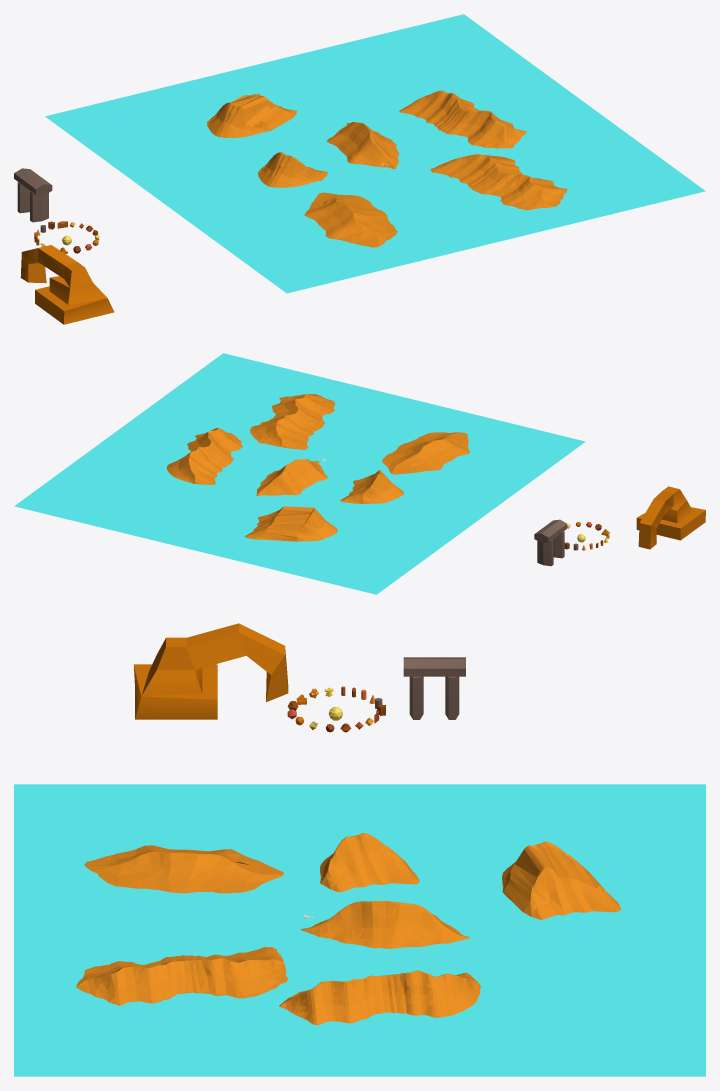
The model's file is ground environment.fbx.
The picture shows the model from 3 angles, top to bottom: view 1: azimuth 30°, elevation 25°; view 2: azimuth 150°, elevation 25°; view 3: azimuth 270°, elevation 25°; orthographic projection. The views are drawn at different scales.
Visible parts, largest first — view 1: Plane, Pyramid.001__0.001, _gltfNode_2.001, _gltfNode_2, _gltfNode_1.001, _gltfNode_0.001, _gltfNode_1, _gltfNode_0, Cylinder.005__0.003, Cylinder.005__0.002; view 2: Plane, _gltfNode_2.001, Pyramid.001__0.001, _gltfNode_2, _gltfNode_1.001, _gltfNode_0.001, _gltfNode_1, _gltfNode_0, Cylinder.005__0.003, Cylinder.005__0.001; view 3: Plane, Pyramid.001__0.001, _gltfNode_2.001, _gltfNode_2, _gltfNode_1.001, _gltfNode_0.001, _gltfNode_1, _gltfNode_0, Cylinder.005__0.003.
Boxes of the visible parts, left/top/right/bottom form: Plane: left=45, top=14, right=705, bottom=293; Pyramid.001__0.001: left=20, top=245, right=114, bottom=324; _gltfNode_2.001: left=430, top=154, right=567, bottom=210; _gltfNode_2: left=399, top=90, right=526, bottom=148; _gltfNode_1.001: left=304, top=192, right=397, bottom=247; _gltfNode_0.001: left=207, top=94, right=296, bottom=137; _gltfNode_1: left=327, top=122, right=399, bottom=169; _gltfNode_0: left=257, top=152, right=328, bottom=187; Cylinder.005__0.003: left=14, top=168, right=52, bottom=195; Cylinder.005__0.002: left=30, top=191, right=48, bottom=222; Plane: left=14, top=353, right=585, bottom=594; _gltfNode_2.001: left=250, top=394, right=335, bottom=449; Pyramid.001__0.001: left=636, top=486, right=705, bottom=549; _gltfNode_2: left=166, top=427, right=242, bottom=484; _gltfNode_1.001: left=382, top=432, right=469, bottom=474; _gltfNode_0.001: left=245, top=506, right=337, bottom=541; _gltfNode_1: left=256, top=459, right=327, bottom=496; _gltfNode_0: left=340, top=470, right=403, bottom=503; Cylinder.005__0.003: left=534, top=519, right=567, bottom=543; Cylinder.005__0.001: left=537, top=539, right=553, bottom=566; Plane: left=14, top=784, right=705, bottom=1076; Pyramid.001__0.001: left=133, top=623, right=288, bottom=719; _gltfNode_2.001: left=76, top=947, right=287, bottom=1005; _gltfNode_2: left=279, top=970, right=480, bottom=1025; _gltfNode_1.001: left=84, top=845, right=283, bottom=893; _gltfNode_0.001: left=502, top=841, right=620, bottom=920; _gltfNode_1: left=301, top=901, right=470, bottom=948; _gltfNode_0: left=320, top=833, right=419, bottom=892; Cylinder.005__0.003: left=403, top=657, right=465, bottom=676.
Size of the model in its own units: 19079 by 1631 by 13332.
Materials: 2 (2 with a texture image).
